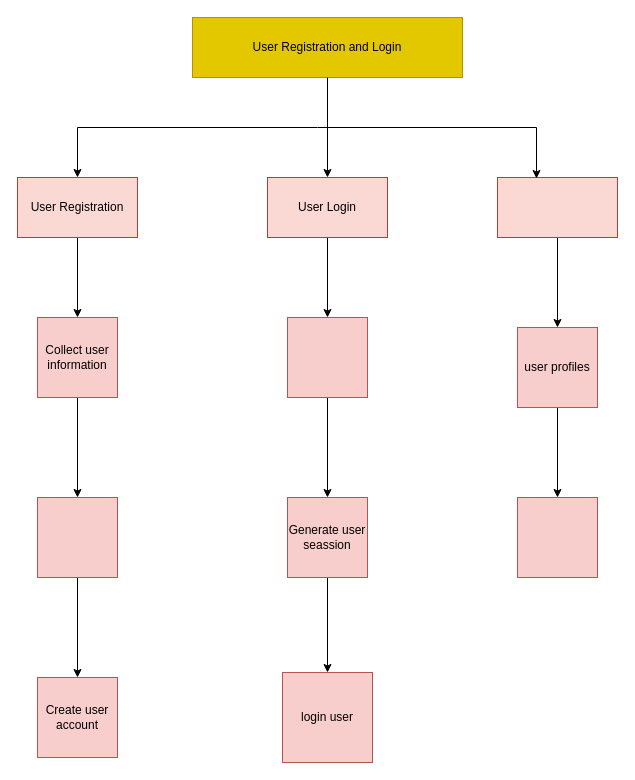
The diagram is 635 pixels wide and 780 high, and some of its shapes have lost their labels. The centre of each missing label's shape, as x and y in pixels:
"Database storage" belongs at [557,207].
"user credintalis" belongs at [327,357].
"user password" belongs at [557,537].
"valid user data" belongs at [77,537].
